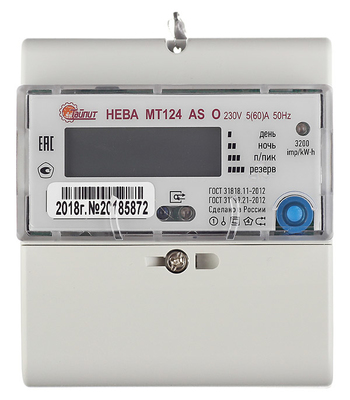counter: (18, 32, 336, 383)
counter_screen: (63, 125, 224, 179)
